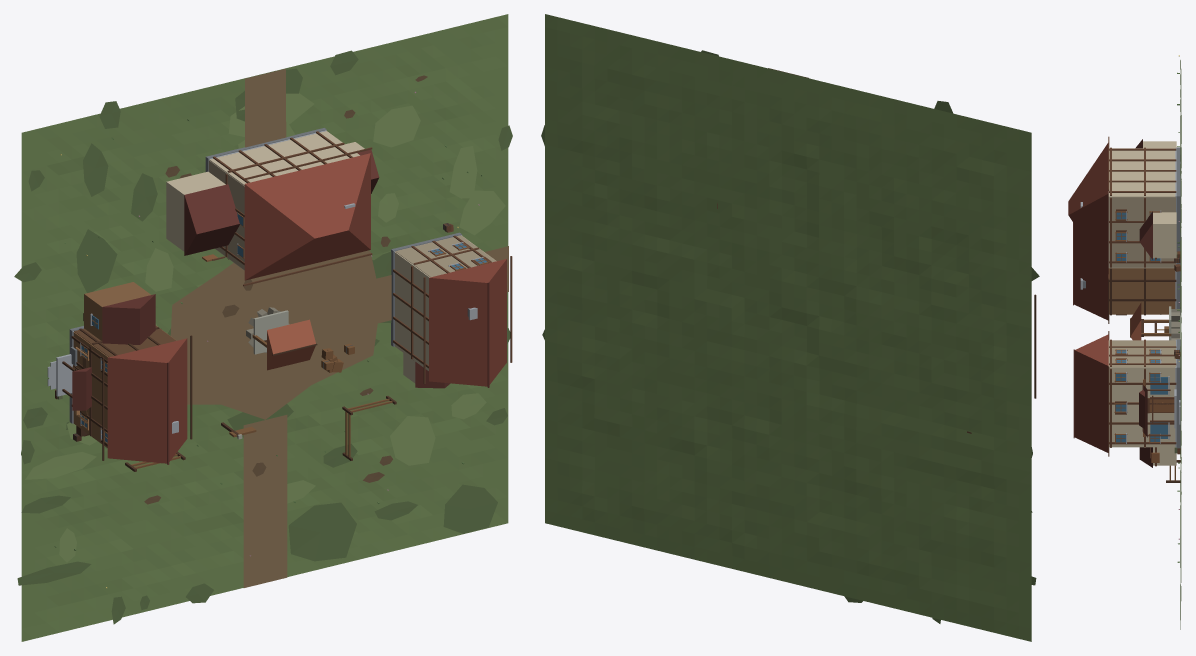
The model's file is worldforge_field_424242.obj.
3 views of the same model, side by side, from view 1: azimuth 30°, elevation 25°; view 2: azimuth 150°, elevation 25°; view 3: azimuth 270°, elevation 25° (orthographic). The views are drawn at different scales.
Visible parts, largest first — view 1: surface::surfaceGround, surface::plaza, inn::mainRoof, houseW::mainRoof, shopE::mainRoof, surface::plazaSouth, inn::walls, surface::variation_23, inn::steppedWing_roof, surface::plazaNorth, shopE::walls, houseW::steppedWing_roof (+22 smaller); view 2: surface::surfaceGround; view 3: shopE::mainRoof, shopE::walls, inn::walls, inn::mainRoof, houseW::walls, inn::rightWallTone, houseW::mainRoof, shopE::rightWallTone, inn::extension, surface::surfaceGround, inn::foundation, shopE::foundation (+15 smaller).
Boxes of the visible parts, <box> form: surface::surfaceGround: <box>21,14,508,641</box>; surface::plaza: <box>170,250,377,419</box>; inn::mainRoof: <box>244,153,370,280</box>; houseW::mainRoof: <box>107,338,187,463</box>; shopE::mainRoof: <box>429,259,506,386</box>; surface::plazaSouth: <box>243,415,287,587</box>; inn::walls: <box>209,131,359,270</box>; surface::variation_23: <box>288,502,356,561</box>; inn::steppedWing_roof: <box>184,184,239,255</box>; surface::plazaNorth: <box>245,69,286,147</box>; shopE::walls: <box>395,236,496,370</box>; houseW::steppedWing_roof: <box>102,294,155,344</box>; surface::surfaceGround: <box>545,14,1031,641</box>; shopE::mainRoof: <box>1074,334,1108,452</box>; shopE::walls: <box>1108,340,1175,447</box>; inn::walls: <box>1108,148,1175,268</box>; inn::mainRoof: <box>1068,143,1108,273</box>; houseW::walls: <box>1109,268,1175,314</box>; inn::rightWallTone: <box>1109,197,1175,267</box>; houseW::mainRoof: <box>1074,224,1108,320</box>; shopE::rightWallTone: <box>1109,340,1175,367</box>; inn::extension: <box>1153,212,1176,258</box>; surface::surfaceGround: <box>1180,60,1181,619</box>; inn::foundation: <box>1176,147,1180,264</box>; shopE::foundation: <box>1176,339,1180,448</box>.
Size of the model in its own units: 34.85 by 35.02 by 8.15.
